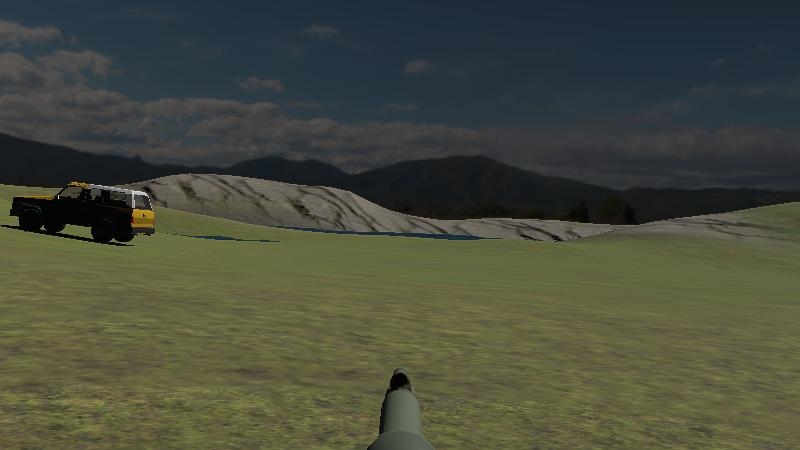car: (7, 177, 159, 246)
